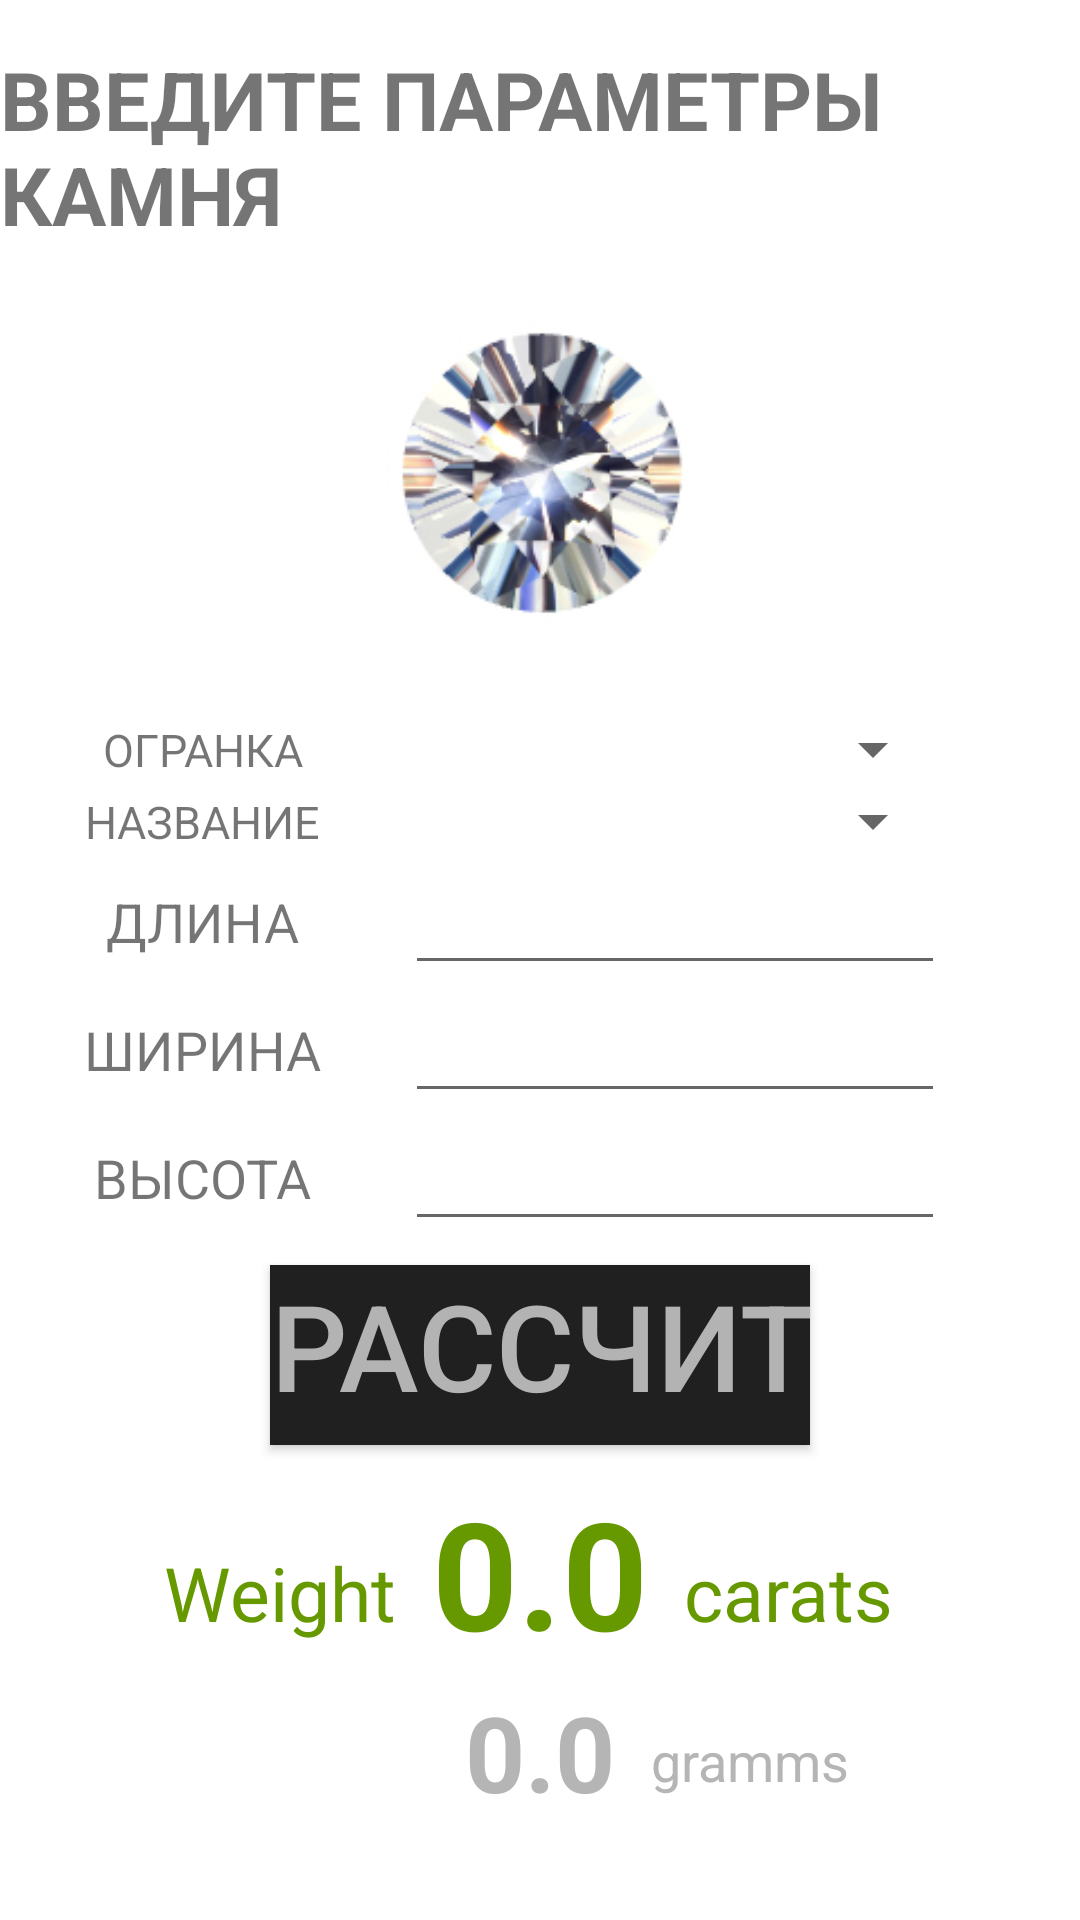

Named icons in this screenshot (1080 x 1920) and their centers, point (x, y):
rounddiamond: point (542, 473)
